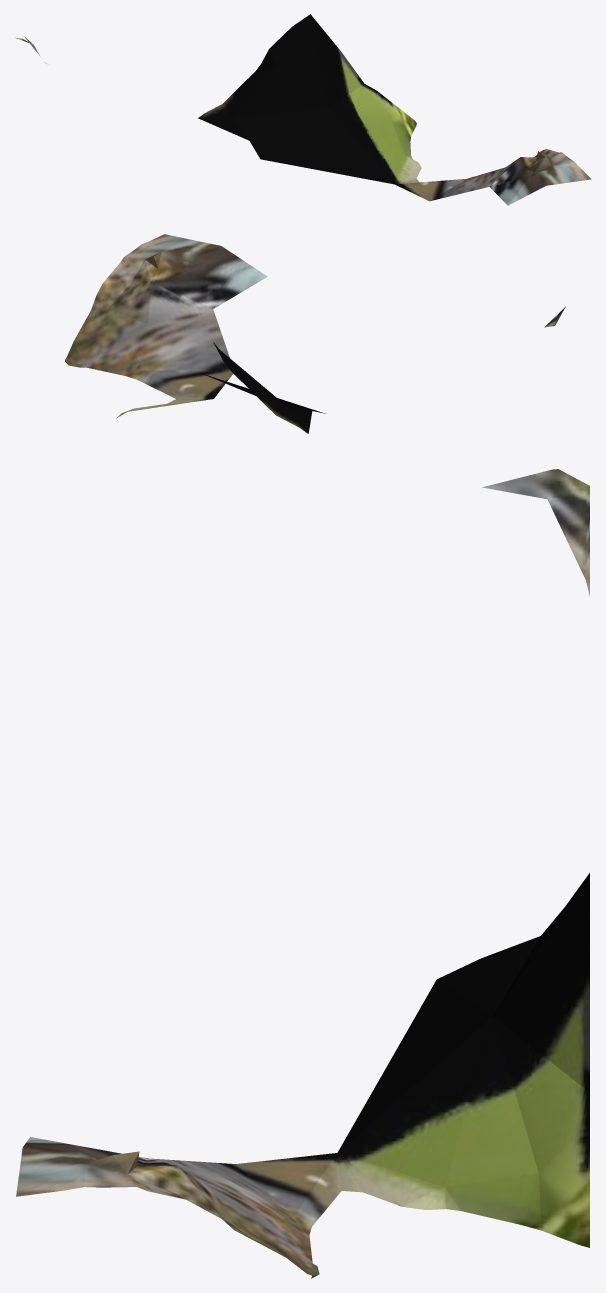
The picture shows the model from 3 angles, top to bottom: view 1: azimuth 30°, elevation 25°; view 2: azimuth 150°, elevation 25°; view 3: azimuth 270°, elevation 25°; orthographic projection. The views are drawn at different scales.
Size of the model in its own units: 6.7 by 2.84 by 3.83.
1 material, 1 textured.
